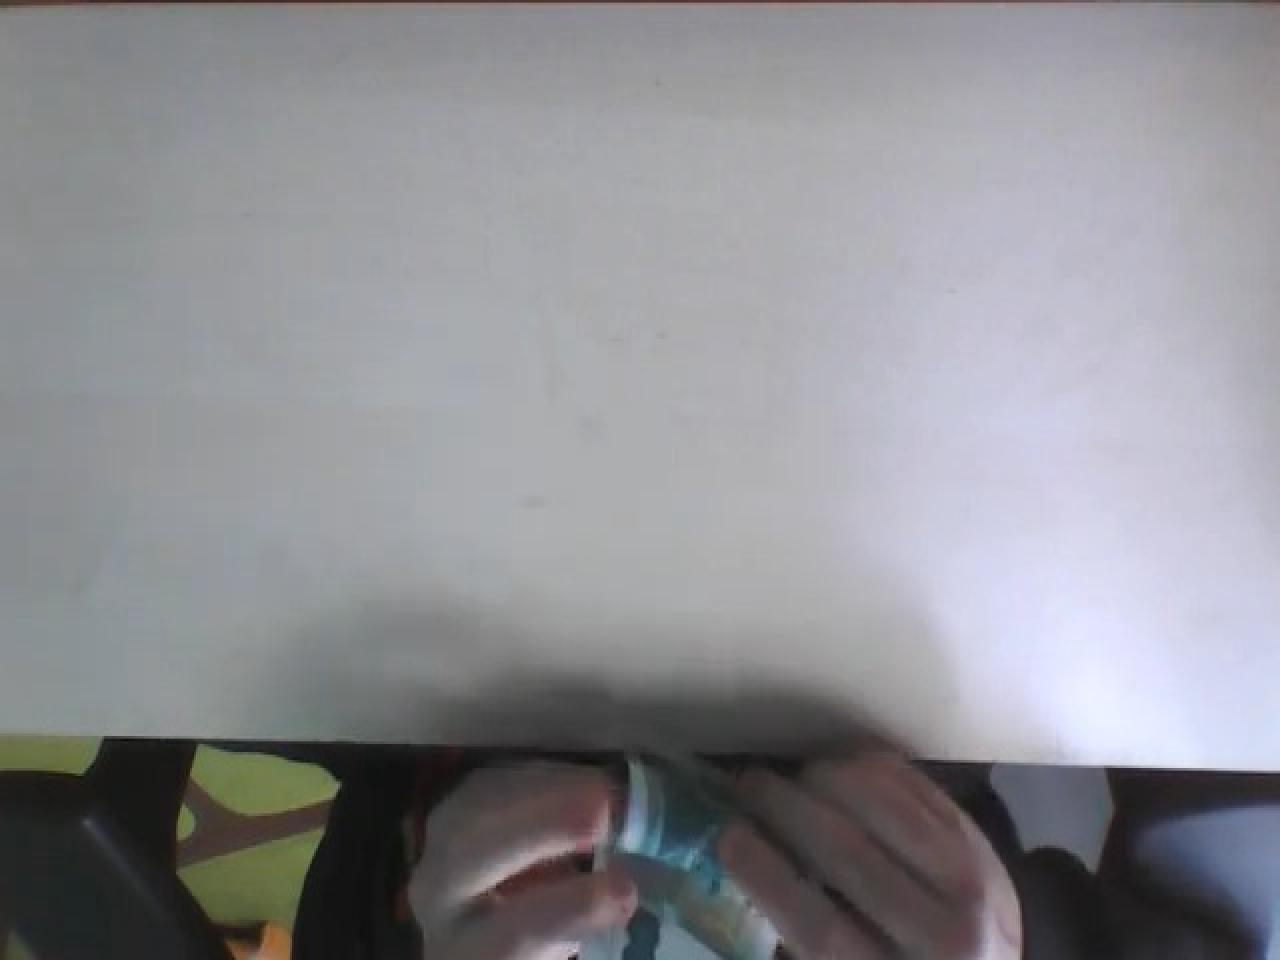100leva: (588, 752, 792, 960)
